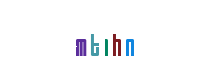1: (67, 0, 147, 80)
H: (76, 0, 156, 80)
M: (41, 0, 121, 80)
N: (90, 0, 170, 80)
T: (58, 0, 138, 80)
